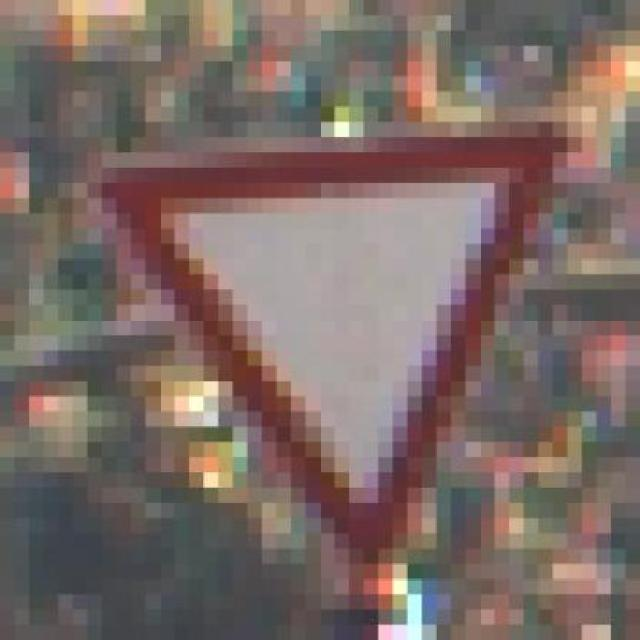Give Way: (43, 115, 611, 618)
